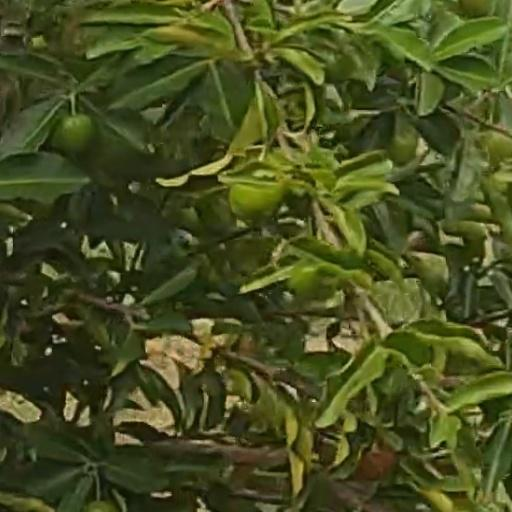acerola_verde: (60, 114, 92, 154)
